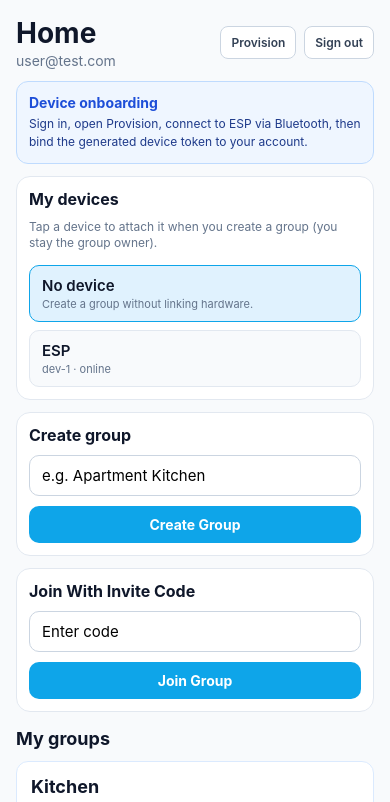
DashboardScreen › shows generic sign-out error when rejection has no message
Expected: the text "Kitchen" is shown, [31,776,99,797]
What coordinates should you click on to do the following:
click the text "Sign out"
I would click on:
 (339, 42)
Its box is [315,35,363,50].
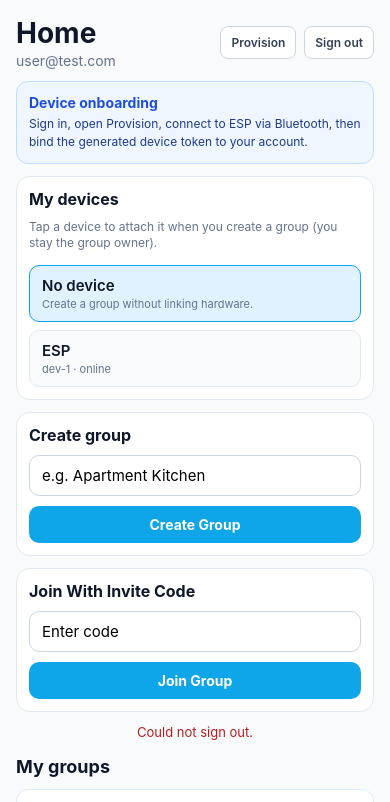
Expected: the text "Could not sign out." is shown, [137,724,253,740]
